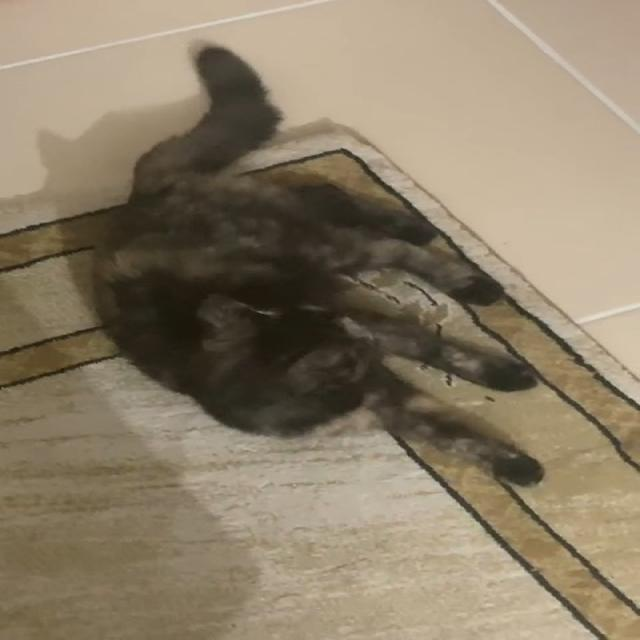authorized: (89, 39, 547, 488)
